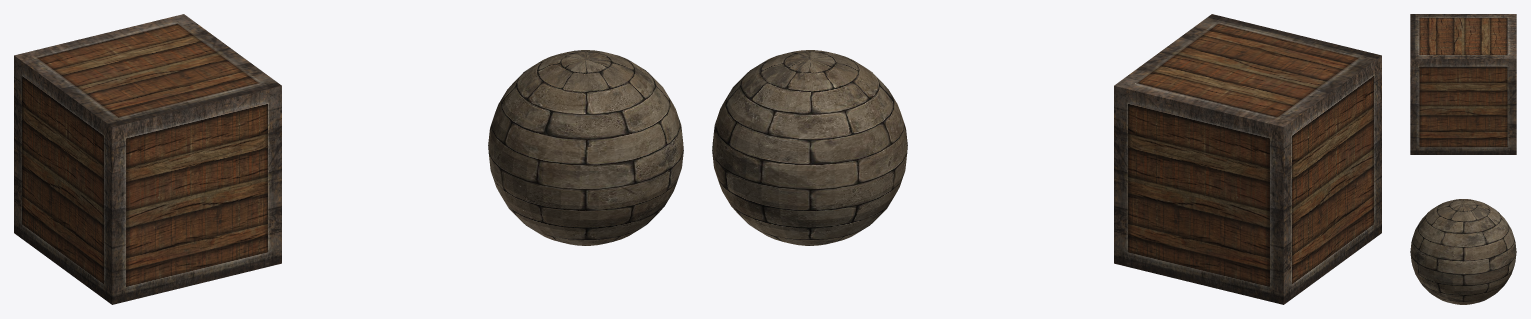
The picture shows the model from 3 angles, left to right: view 1: azimuth 30°, elevation 25°; view 2: azimuth 150°, elevation 25°; view 3: azimuth 270°, elevation 25°; orthographic projection. The views are drawn at different scales.
Visible parts, largest first — view 1: Cube, Sphere; view 2: Cube, Sphere; view 3: Cube, Sphere.
Part boxes in pixels (x1,y1,x2,y2): Cube: (14,14,281,304); Sphere: (488,50,683,245); Cube: (1114,14,1381,304); Sphere: (712,50,907,245); Cube: (1410,14,1516,154); Sphere: (1410,199,1516,304).
Size of what is drawn, in the model's own units: 7.16 by 3.07 by 2.
2 materials, 2 textured.
